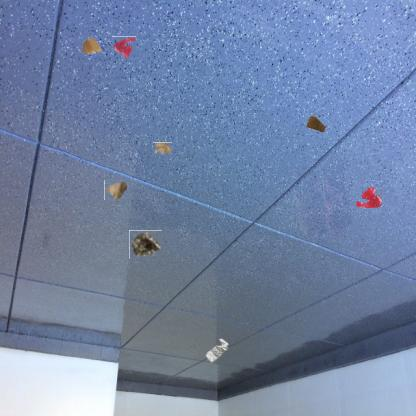dirty: (130, 229, 161, 260), (206, 337, 232, 365), (304, 111, 327, 135), (104, 180, 127, 200), (82, 34, 102, 56), (152, 142, 172, 155)
liquid: (356, 187, 382, 209), (112, 36, 136, 59)
